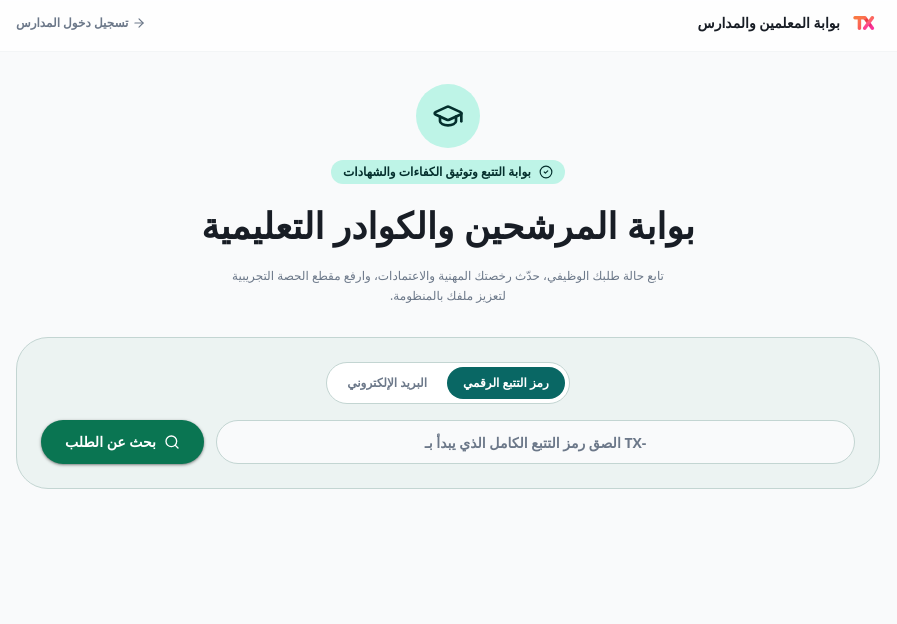
it: candidate tracking feedback › keeps recovery acknowledgement conditional and does not render email lookup data
Click the button "البريد الإلكتروني".
click(387, 383)  # box left=331, top=367, right=443, bottom=399
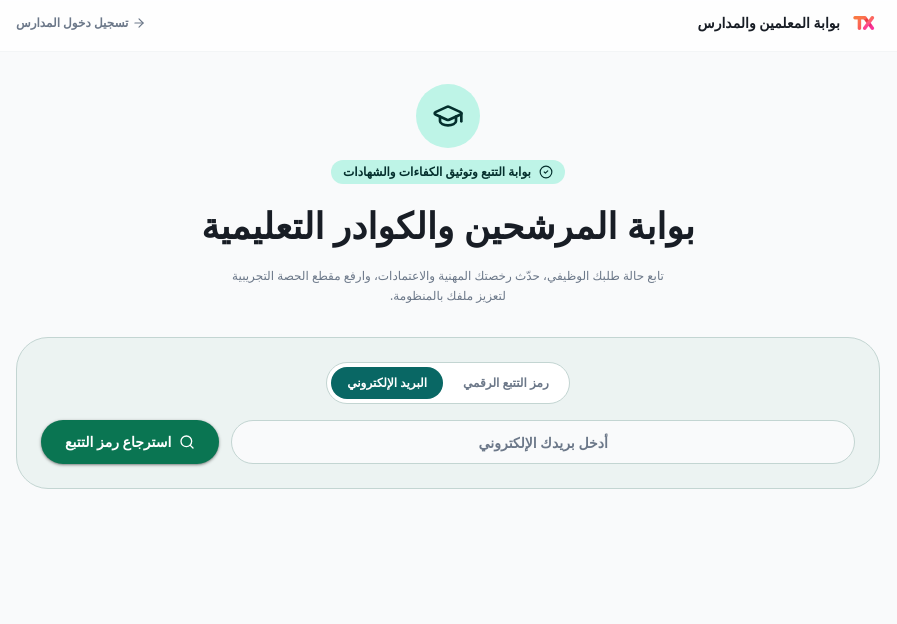
Type "test@example.com" into the field named "البريد الإلكتروني".
click(543, 442); type("test@example.com")  # box left=231, top=420, right=855, bottom=464
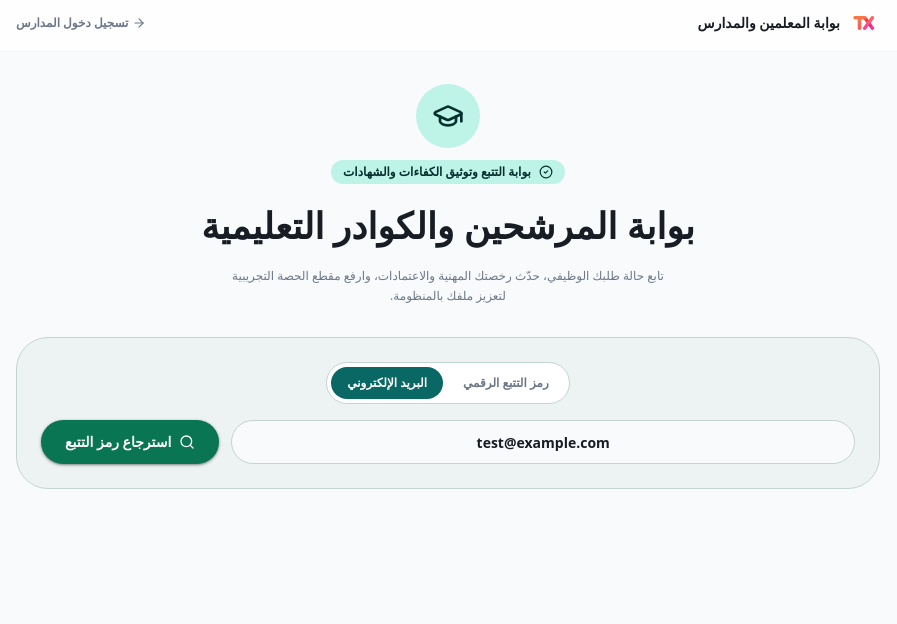
Click the button "استرجاع رمز التتبع".
click(130, 442)  # box left=41, top=420, right=219, bottom=464
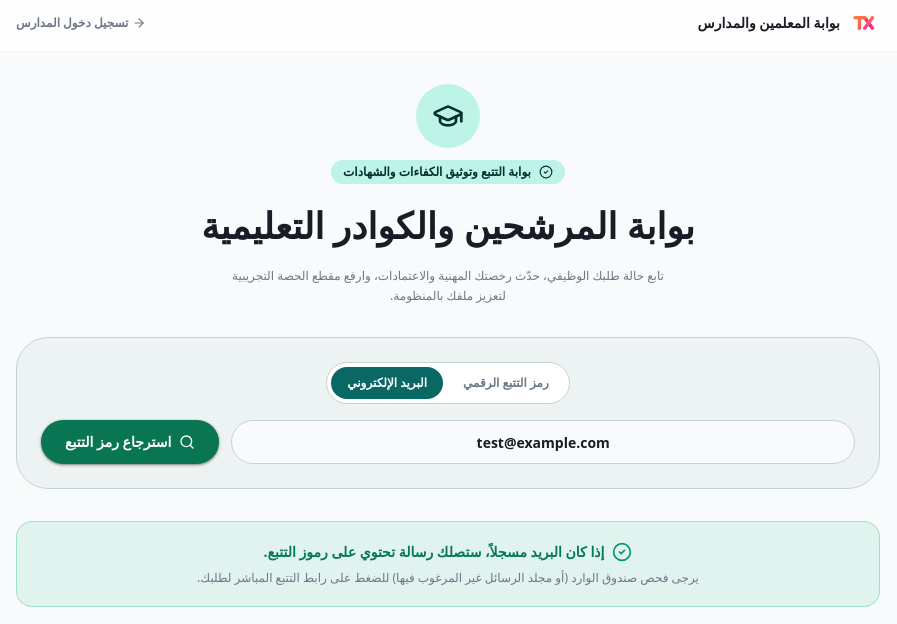
Check: the message shows "إذا كان البريد مسجلاً", box left=264, top=542, right=604, bottom=561
